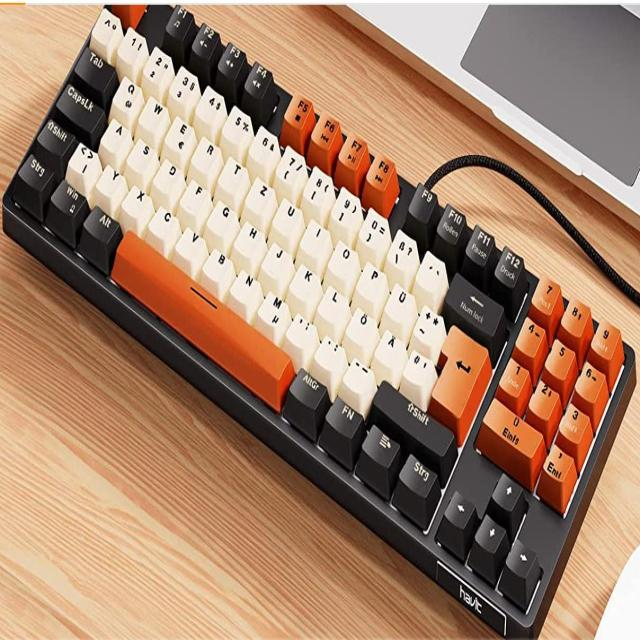0: (357, 202, 392, 253)
1: (116, 25, 148, 66)
2: (141, 45, 175, 86)
3: (167, 62, 201, 106)
4: (194, 82, 227, 125)
5: (220, 103, 254, 146)
6: (248, 122, 282, 166)
7: (273, 141, 309, 188)
8: (301, 161, 337, 210)
9: (328, 182, 364, 231)
a: (98, 118, 132, 157)
accent: (413, 247, 448, 295)
ae: (371, 332, 407, 370)
alt-left: (80, 204, 122, 244)
altgr-right: (287, 365, 329, 409)
b: (199, 248, 236, 287)
c: (145, 208, 181, 245)
caret: (89, 5, 122, 59)
comma: (283, 316, 319, 352)
d: (151, 159, 185, 199)
del: (442, 267, 506, 339)
e: (161, 115, 197, 166)
enter: (429, 322, 492, 421)
f: (177, 181, 212, 219)
g: (204, 202, 239, 242)
h: (232, 221, 267, 259)
hash: (400, 348, 438, 390)
i: (296, 219, 333, 262)
j: (259, 242, 294, 285)
k: (288, 263, 323, 306)
keyboard: (1, 0, 635, 634)
l: (314, 286, 351, 328)
less: (64, 141, 101, 188)
m: (253, 292, 291, 335)
minus: (339, 361, 376, 404)
n: (226, 270, 263, 310)
o: (324, 240, 361, 288)
oe: (343, 308, 379, 359)
p: (352, 262, 389, 306)
plus: (409, 305, 446, 359)
point: (313, 336, 346, 373)
q: (108, 73, 145, 123)
r: (188, 135, 224, 180)
s: (125, 138, 158, 176)
shift-left: (35, 114, 76, 153)
shift-lock: (53, 78, 106, 131)
shift-right: (370, 379, 456, 460)
space: (108, 228, 291, 406)
ss: (385, 225, 419, 272)
strg-left: (14, 151, 55, 190)
strg-right: (398, 454, 437, 503)
t: (214, 155, 251, 205)
tab: (72, 43, 118, 95)
u: (269, 197, 305, 247)
ue: (381, 285, 417, 330)
v: (171, 226, 209, 268)
w: (136, 94, 171, 139)
x: (119, 185, 155, 223)
y: (94, 164, 128, 201)
z: (242, 178, 278, 221)
